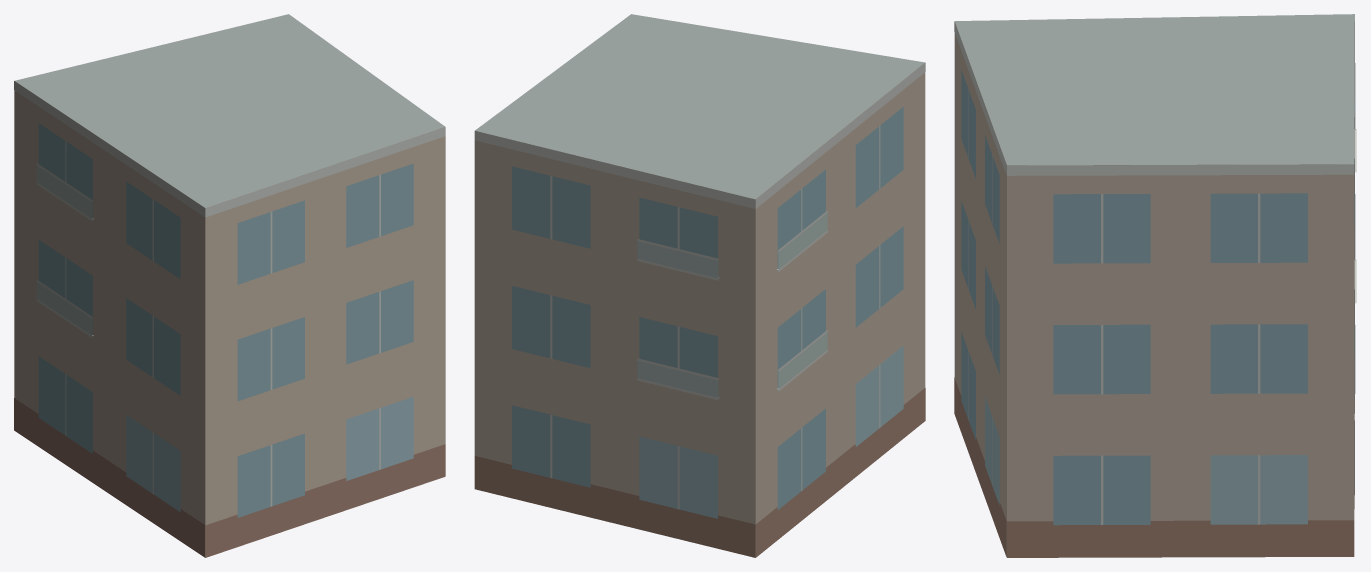
Rendered from survey-upis-32462802.glb.
3 views of the same model, side by side, from view 1: azimuth 30°, elevation 25°; view 2: azimuth 150°, elevation 25°; view 3: azimuth 270°, elevation 25° (orthographic). The views are drawn at different scales.
Parts seen in each view (by area): view 1: survey-upis-32462802.tmp; view 2: survey-upis-32462802.tmp; view 3: survey-upis-32462802.tmp.
Part boxes in pixels (x1,y1,x2,y2): survey-upis-32462802.tmp: (14, 14, 445, 557); survey-upis-32462802.tmp: (474, 14, 925, 557); survey-upis-32462802.tmp: (954, 14, 1356, 557).
Bounding box in the file's own units: 7.58 × 9.15 × 8.5.
